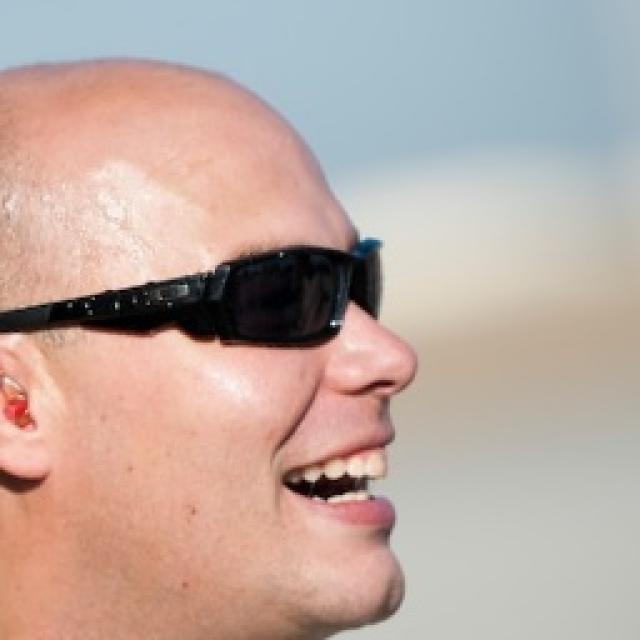glasses: (4, 234, 404, 372)
